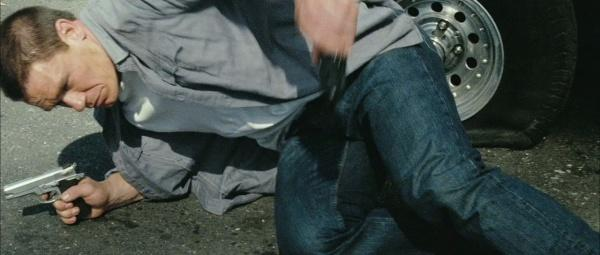Gun: (3, 160, 90, 221)
